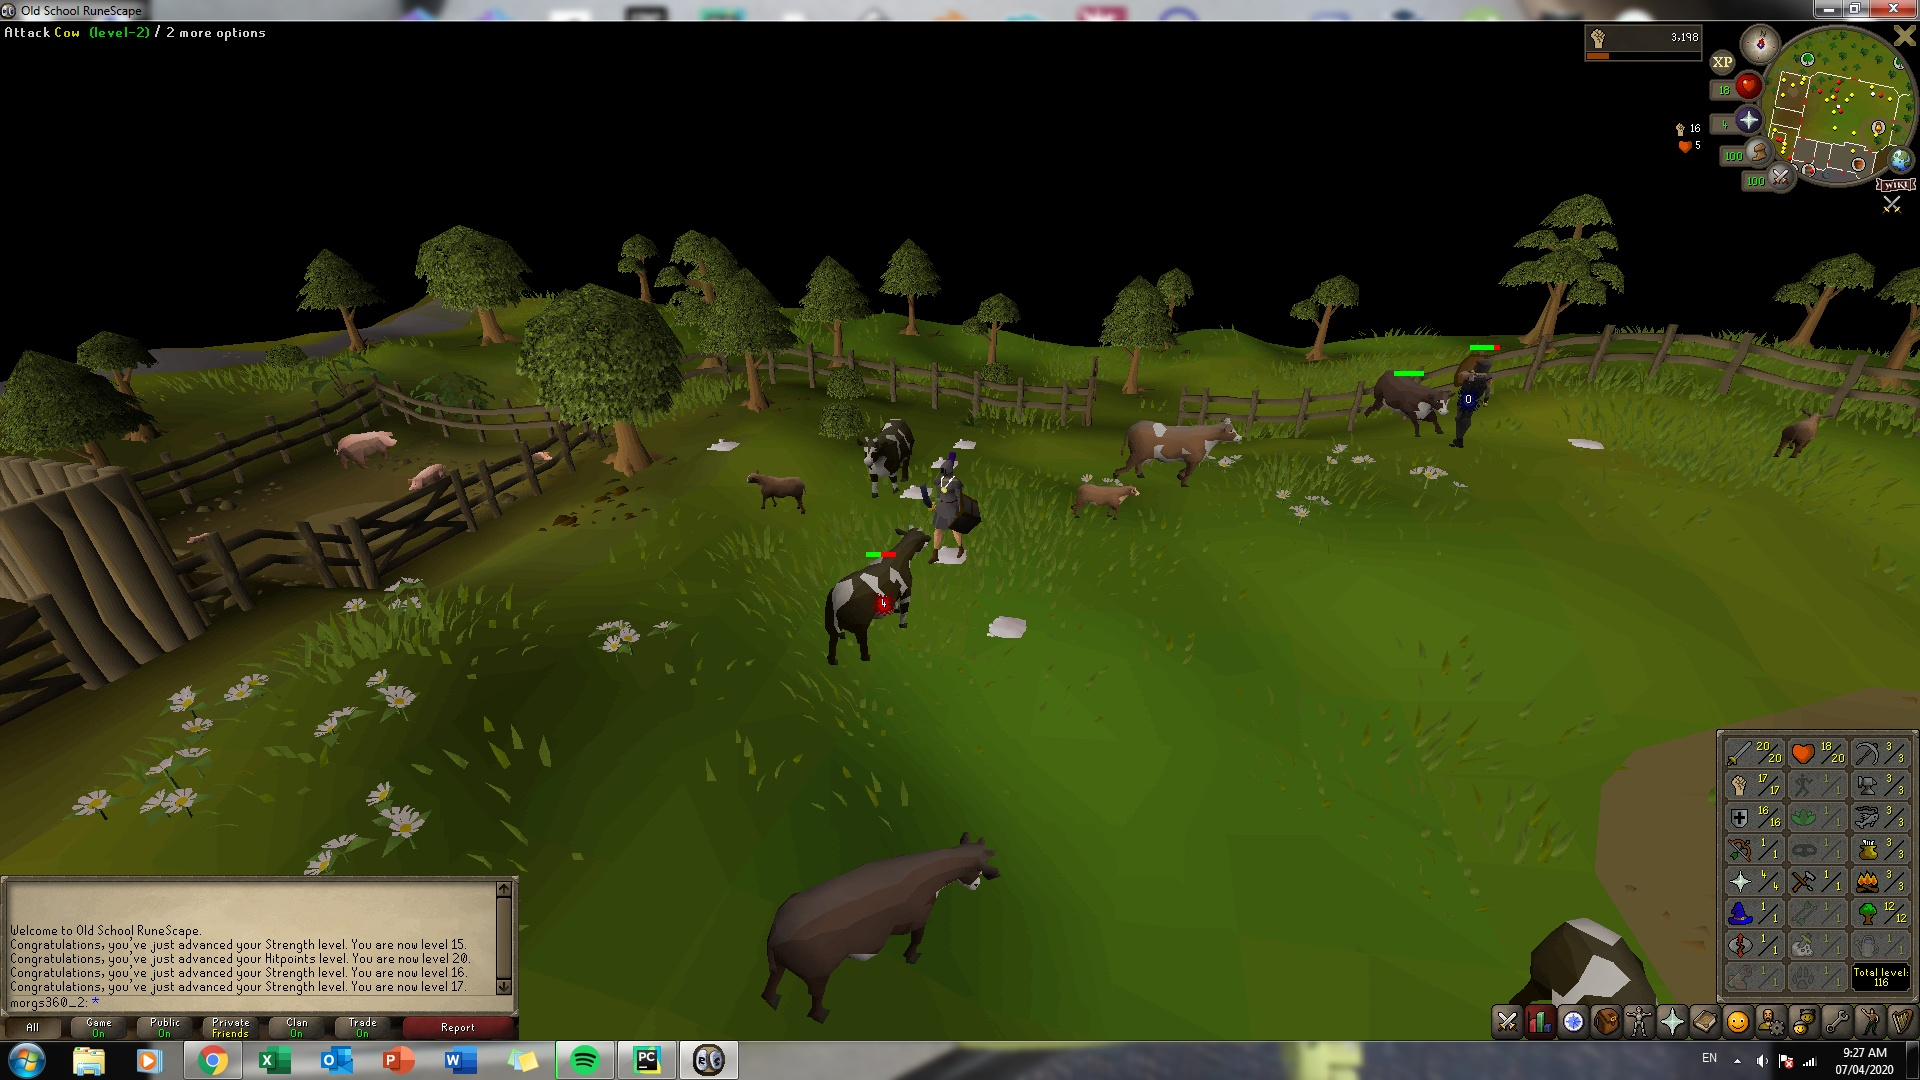cow: (758, 832, 1000, 1023), (821, 528, 929, 671), (1503, 912, 1664, 1005), (1117, 415, 1241, 491), (1369, 370, 1454, 440), (859, 416, 912, 501), (1068, 480, 1144, 522), (744, 471, 809, 515), (1778, 409, 1827, 466)
player: (929, 446, 968, 561)
